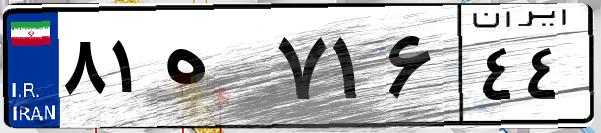1: (330, 28, 385, 110), (110, 28, 158, 98)
4: (475, 38, 525, 113), (525, 38, 570, 115)
6: (385, 28, 445, 110)
7: (270, 28, 330, 110)
8: (57, 26, 110, 100)
ه: (158, 20, 270, 120)
